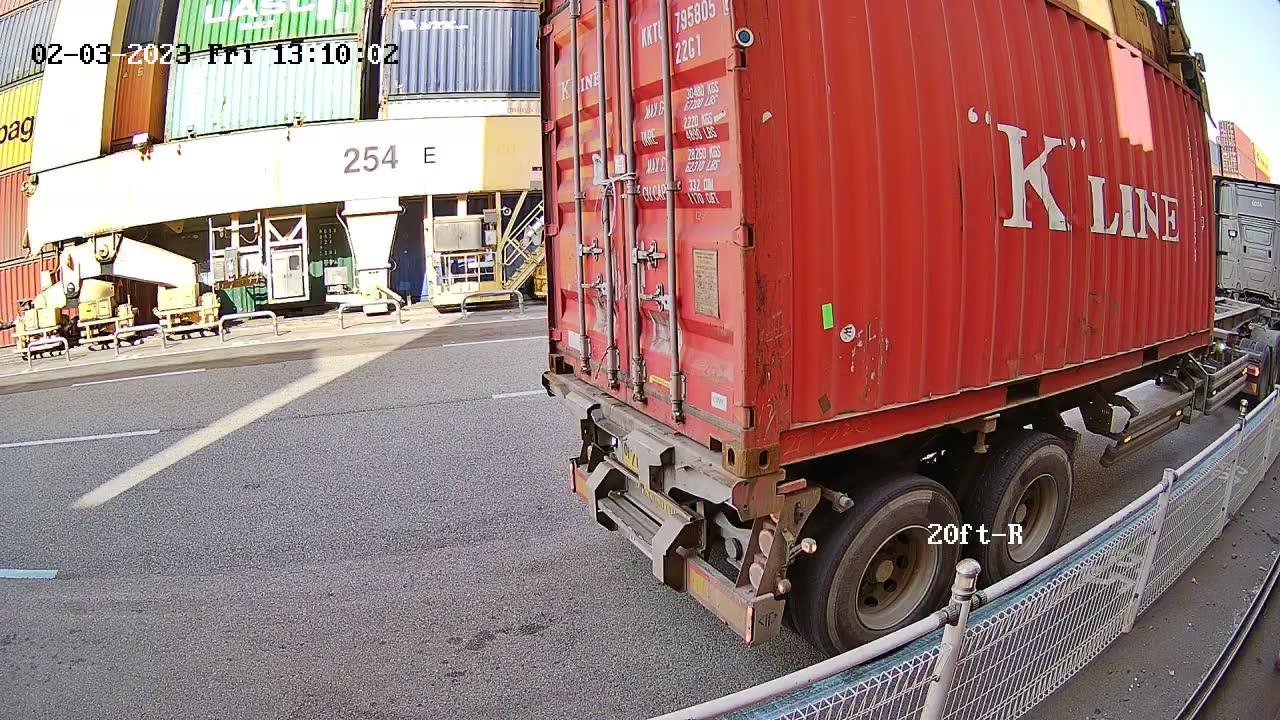Chassis: (542, 373, 783, 502)
Cone: (741, 471, 781, 518)
Hole_L: (747, 398, 813, 476), (547, 329, 581, 381)
Hole_R: (694, 386, 747, 478)
Tire: (818, 475, 963, 667), (983, 436, 1072, 591)
